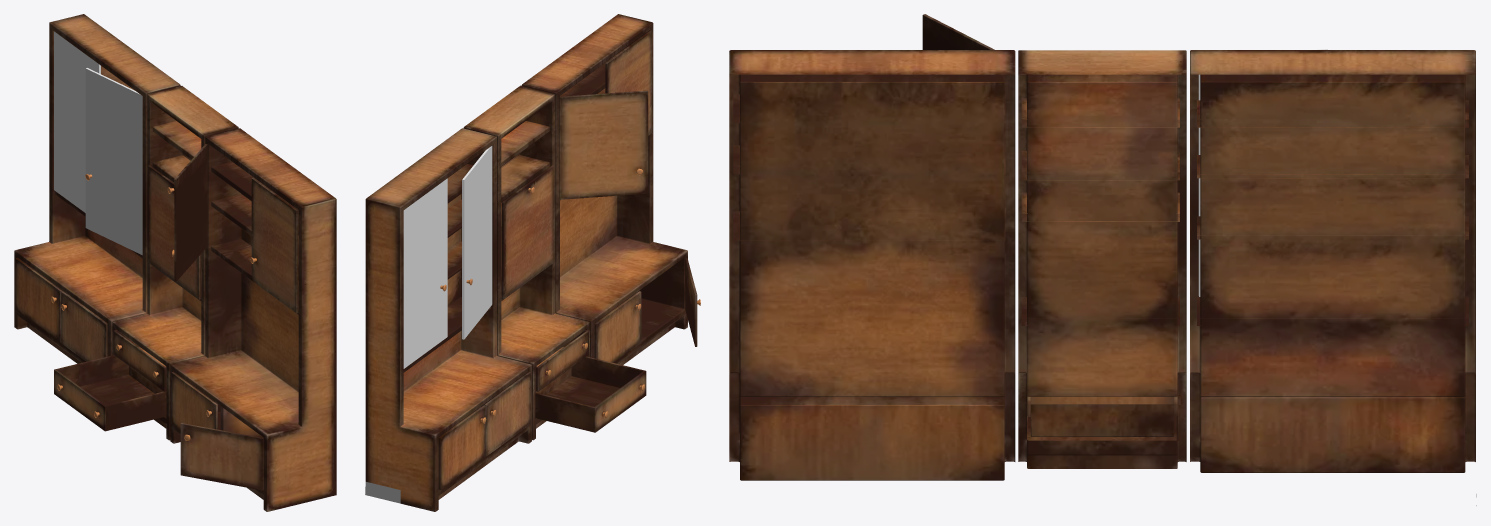
The model's file is wallUnit.glb.
The picture shows the model from 3 angles, left to right: view 1: azimuth 30°, elevation 25°; view 2: azimuth 150°, elevation 25°; view 3: azimuth 270°, elevation 25°; orthographic projection. The views are drawn at different scales.
Parts seen in each view (by area): view 1: Base.004_BaseMaterial_0, Door_up_glass.008_Glass_window_0; view 2: Base.004_BaseMaterial_0, Door_up_glass.008_Glass_window_0; view 3: Base.004_BaseMaterial_0.
Part boxes in pixels (left/top/right/bottom): Base.004_BaseMaterial_0: left=14, top=14, right=336, bottom=511; Door_up_glass.008_Glass_window_0: left=54, top=31, right=142, bottom=255; Base.004_BaseMaterial_0: left=365, top=14, right=700, bottom=511; Door_up_glass.008_Glass_window_0: left=403, top=146, right=492, bottom=368; Base.004_BaseMaterial_0: left=729, top=14, right=1476, bottom=505.
Size of the model in its own units: 1.14 by 2.4 by 3.71.
Materials: 2 (1 with a texture image).
